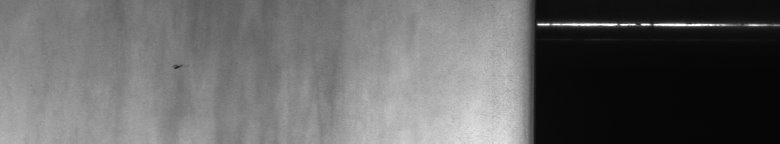fi: (172, 60, 188, 76)
